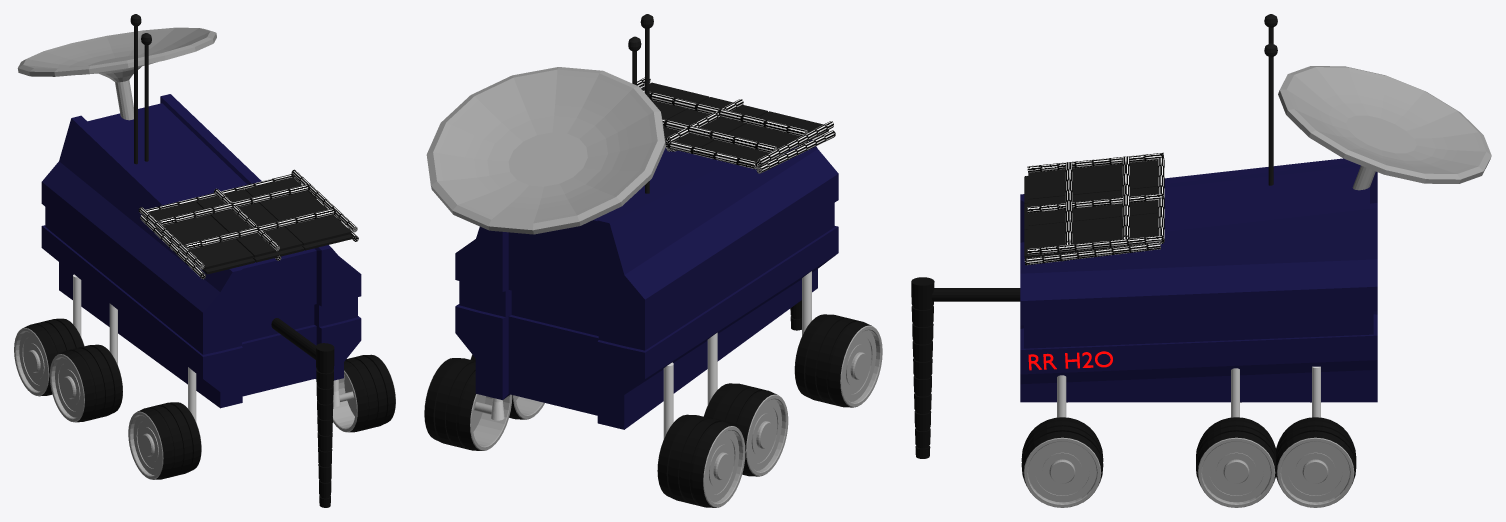
Rendered from rover_research_h20.glb.
3 views of the same model, side by side, from view 1: azimuth 30°, elevation 25°; view 2: azimuth 150°, elevation 25°; view 3: azimuth 270°, elevation 25° (orthographic). The views are drawn at different scales.
Visible parts, largest first — view 1: Rover_Research_H20, Cylinder.138, Cube.042, Cylinder.117, Cylinder.121, Cube.040, Cylinder.085, Cube.041, Cylinder.195, Cylinder.129, Cylinder.145, Cylinder.146 (+17 smaller); view 2: Rover_Research_H20, Cylinder.138, Cylinder.117, Cylinder.129, Cylinder.125, Cube.040, Cylinder.121, Cube.041, Cylinder.118, Cylinder.130, Cylinder.122, Cylinder.124 (+15 smaller); view 3: Rover_Research_H20, Cylinder.138, Cylinder.195, Cube.040, Cylinder.114, Cylinder.086, Cylinder.126, Cube.042, Cube.041, Cylinder.085, Cylinder.125, Cylinder.113 (+11 smaller).
Part boxes in pixels (bbox=[...]): Rover_Research_H20: bbox=[41, 94, 361, 408]; Cylinder.138: bbox=[17, 27, 216, 120]; Cube.042: bbox=[245, 177, 351, 245]; Cylinder.117: bbox=[137, 402, 201, 479]; Cylinder.121: bbox=[58, 344, 122, 422]; Cube.040: bbox=[148, 201, 253, 269]; Cylinder.085: bbox=[344, 354, 395, 432]; Cube.041: bbox=[196, 189, 302, 257]; Cylinder.195: bbox=[315, 343, 334, 507]; Cylinder.129: bbox=[23, 318, 83, 396]; Cylinder.145: bbox=[184, 208, 335, 249]; Cylinder.146: bbox=[158, 184, 310, 225]; Rover_Research_H20: bbox=[455, 140, 838, 429]; Cylinder.138: bbox=[426, 67, 665, 234]; Cylinder.117: bbox=[795, 314, 871, 407]; Cylinder.129: bbox=[657, 414, 734, 507]; Cylinder.125: bbox=[424, 358, 481, 450]; Cube.040: bbox=[696, 111, 823, 164]; Cylinder.121: bbox=[704, 383, 777, 476]; Cube.041: bbox=[663, 97, 767, 150]; Cylinder.118: bbox=[843, 330, 876, 401]; Cylinder.130: bbox=[706, 430, 739, 502]; Cylinder.122: bbox=[748, 399, 781, 470]; Cylinder.124: bbox=[424, 361, 512, 450]; Rover_Research_H20: bbox=[1020, 158, 1377, 402]; Cylinder.138: bbox=[1278, 66, 1491, 190]; Cylinder.195: bbox=[911, 277, 934, 458]; Cube.040: bbox=[1028, 160, 1157, 199]; Cylinder.114: bbox=[1202, 441, 1270, 502]; Cylinder.086: bbox=[1028, 441, 1096, 502]; Cylinder.126: bbox=[1281, 441, 1349, 502]; Cube.042: bbox=[1028, 213, 1157, 248]; Cube.041: bbox=[1028, 186, 1157, 225]; Cylinder.085: bbox=[1021, 417, 1103, 485]; Cylinder.125: bbox=[1276, 417, 1356, 484]; Cylinder.113: bbox=[1196, 417, 1275, 483].
Size of the model in its own units: 2.27 by 3.56 by 4.42.
Materials: 6 (1 with a texture image).
